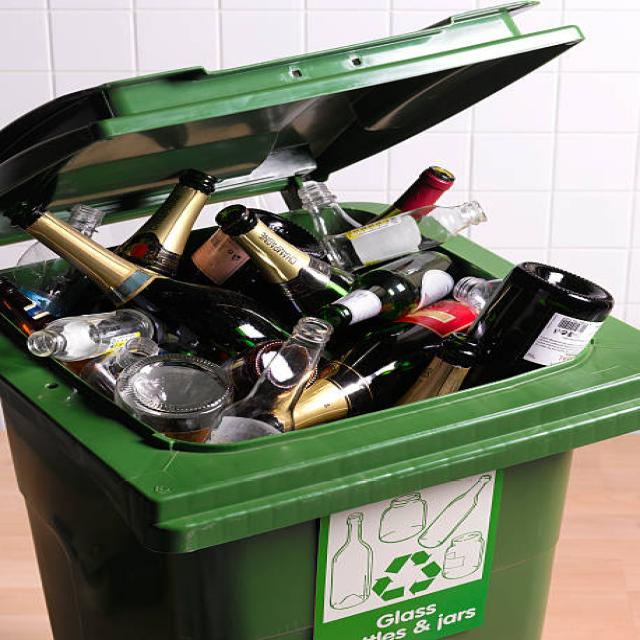glass: (21, 212, 416, 374), (478, 264, 609, 371)
